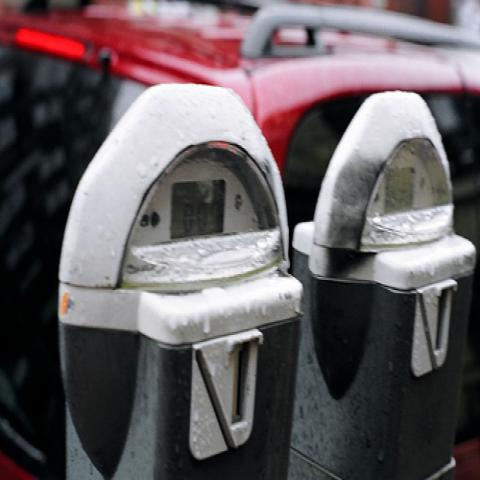car: (0, 2, 479, 448)
